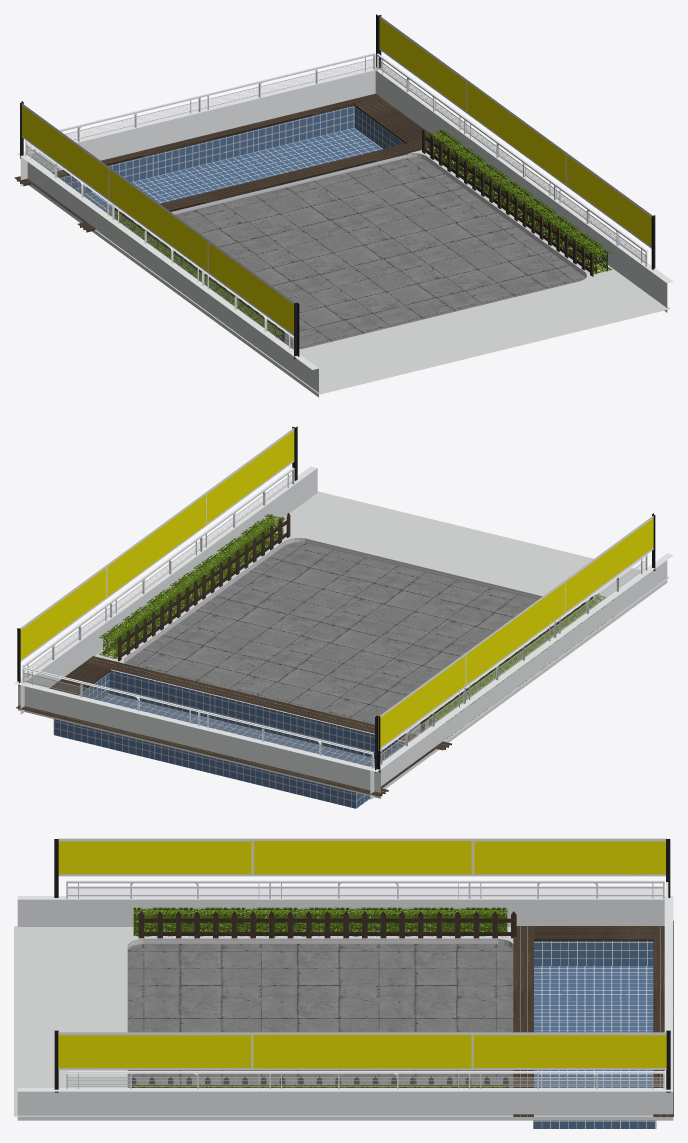
The model's file is M_Pdimian.FBX.
The picture shows the model from 3 angles, top to bottom: view 1: azimuth 30°, elevation 25°; view 2: azimuth 150°, elevation 25°; view 3: azimuth 270°, elevation 25°; orthographic projection. The views are drawn at different scales.
Visible parts, largest first — view 1: M_Pdimian_08, M_Pdimian_01, M_Pdimian_05, M_Pdimian_07, M_Pdimian_06, M_Pdimian_02, M_Pdimian_09, M_Pdimian_04, M_Pdimian_03; view 2: M_Pdimian_08, M_Pdimian_01, M_Pdimian_05, M_Pdimian_07, M_Pdimian_06, M_Pdimian_02, M_Pdimian_09, M_Pdimian_04, M_Pdimian_03; view 3: M_Pdimian_08, M_Pdimian_05, M_Pdimian_01, M_Pdimian_07, M_Pdimian_06, M_Pdimian_02, M_Pdimian_09, M_Pdimian_04.
Boxes of the visible parts, x1,y1,x2,y2 form: M_Pdimian_08: (17, 66, 673, 397); M_Pdimian_01: (135, 157, 585, 348); M_Pdimian_05: (22, 16, 653, 335); M_Pdimian_07: (59, 106, 405, 214); M_Pdimian_06: (14, 93, 593, 342); M_Pdimian_02: (20, 14, 655, 358); M_Pdimian_09: (99, 130, 612, 353); M_Pdimian_04: (26, 60, 646, 347); M_Pdimian_03: (134, 155, 586, 276); M_Pdimian_08: (14, 466, 673, 799); M_Pdimian_01: (124, 542, 578, 734); M_Pdimian_05: (20, 428, 653, 750); M_Pdimian_07: (53, 670, 405, 808); M_Pdimian_06: (16, 513, 592, 796); M_Pdimian_02: (17, 426, 655, 772); M_Pdimian_09: (99, 514, 614, 738); M_Pdimian_04: (24, 475, 645, 764); M_Pdimian_03: (124, 540, 578, 661); M_Pdimian_08: (14, 896, 673, 1120); M_Pdimian_05: (58, 838, 666, 1069); M_Pdimian_01: (127, 944, 513, 1087); M_Pdimian_07: (533, 941, 656, 1128); M_Pdimian_06: (132, 911, 673, 1116); M_Pdimian_02: (54, 839, 670, 1092); M_Pdimian_09: (133, 907, 507, 1087); M_Pdimian_04: (67, 888, 663, 1084).
Size of the model in its own units: 23.03 by 6.18 by 32.58.
